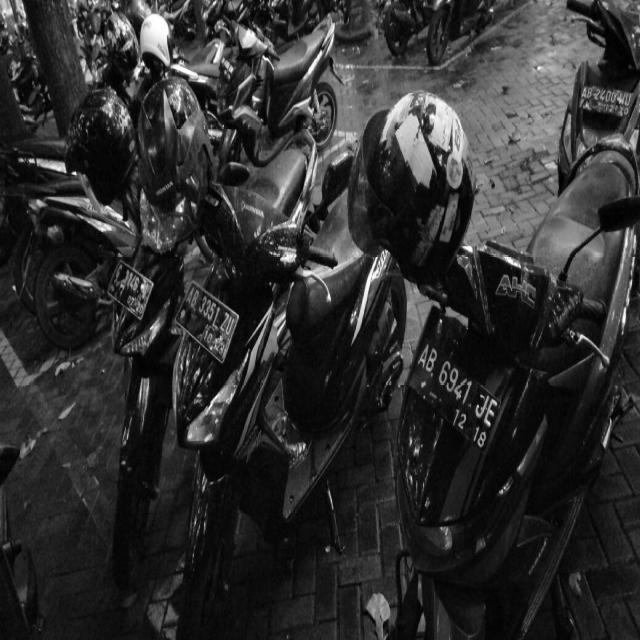license-plat: (172, 272, 246, 374)
